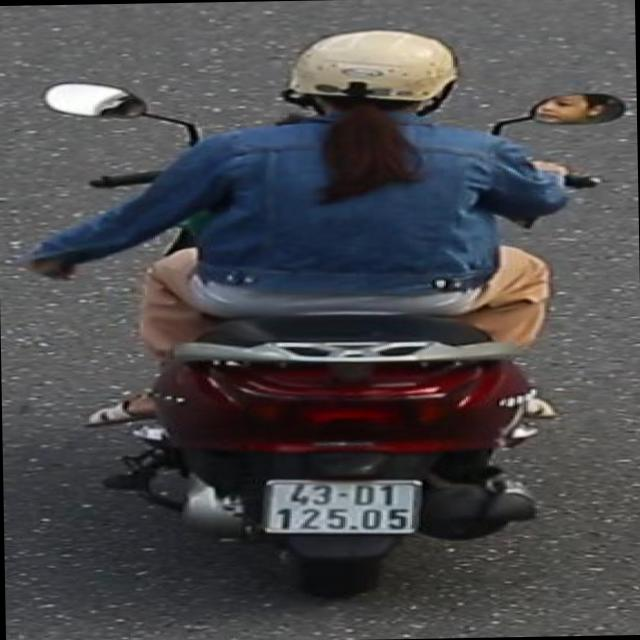LP: (256, 469, 429, 538)
helmet: (273, 24, 467, 132)
